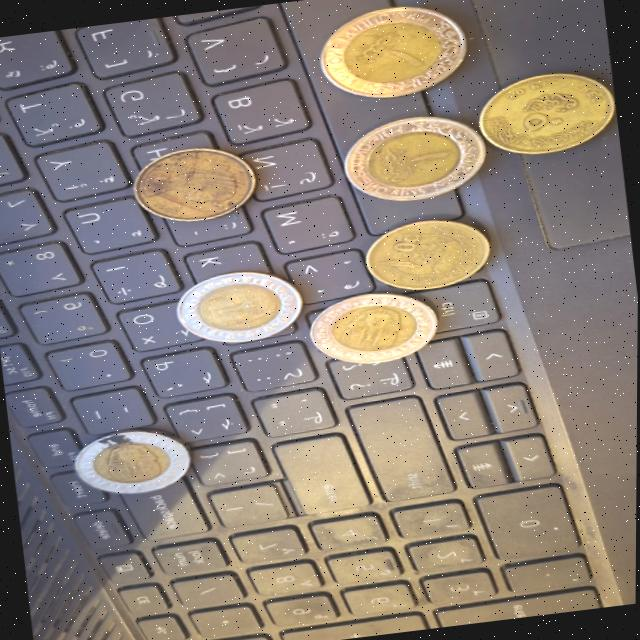Half Pound: (469, 62, 622, 175), (124, 138, 270, 232), (351, 208, 502, 298)
One Pound: (307, 0, 477, 112), (299, 282, 452, 385), (339, 108, 488, 210), (169, 265, 312, 358), (62, 420, 206, 504)
